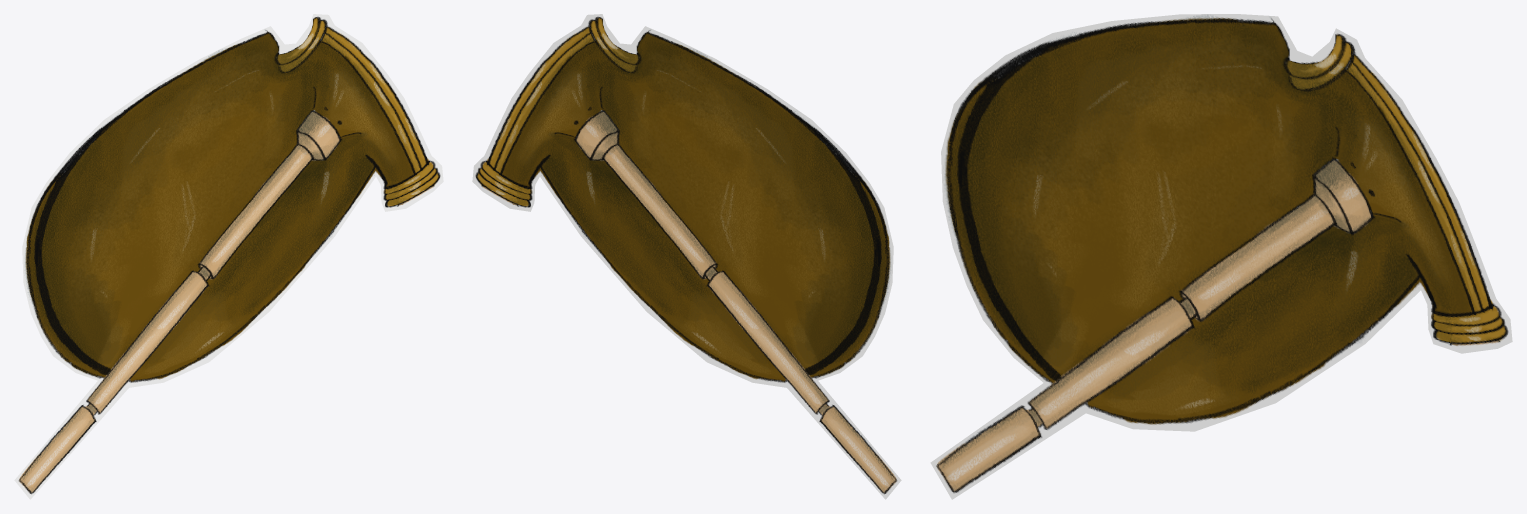
File: mech.glb
3 renders of one model, left to right at view 1: azimuth 30°, elevation 25°; view 2: azimuth 150°, elevation 25°; view 3: azimuth 330°, elevation 25°, orthographic. The views are drawn at different scales.
Parts seen in each view (by area): view 1: Plane.001; view 2: Plane.001; view 3: Plane.001.
Part boxes in pixels (<box>): Plane.001: <box>14,14,443,499</box>; Plane.001: <box>472,14,901,499</box>; Plane.001: <box>930,14,1512,499</box>.
Size of the model in its own units: 13.38 by 12.42 by 0.
Materials: 1 (1 with a texture image).
